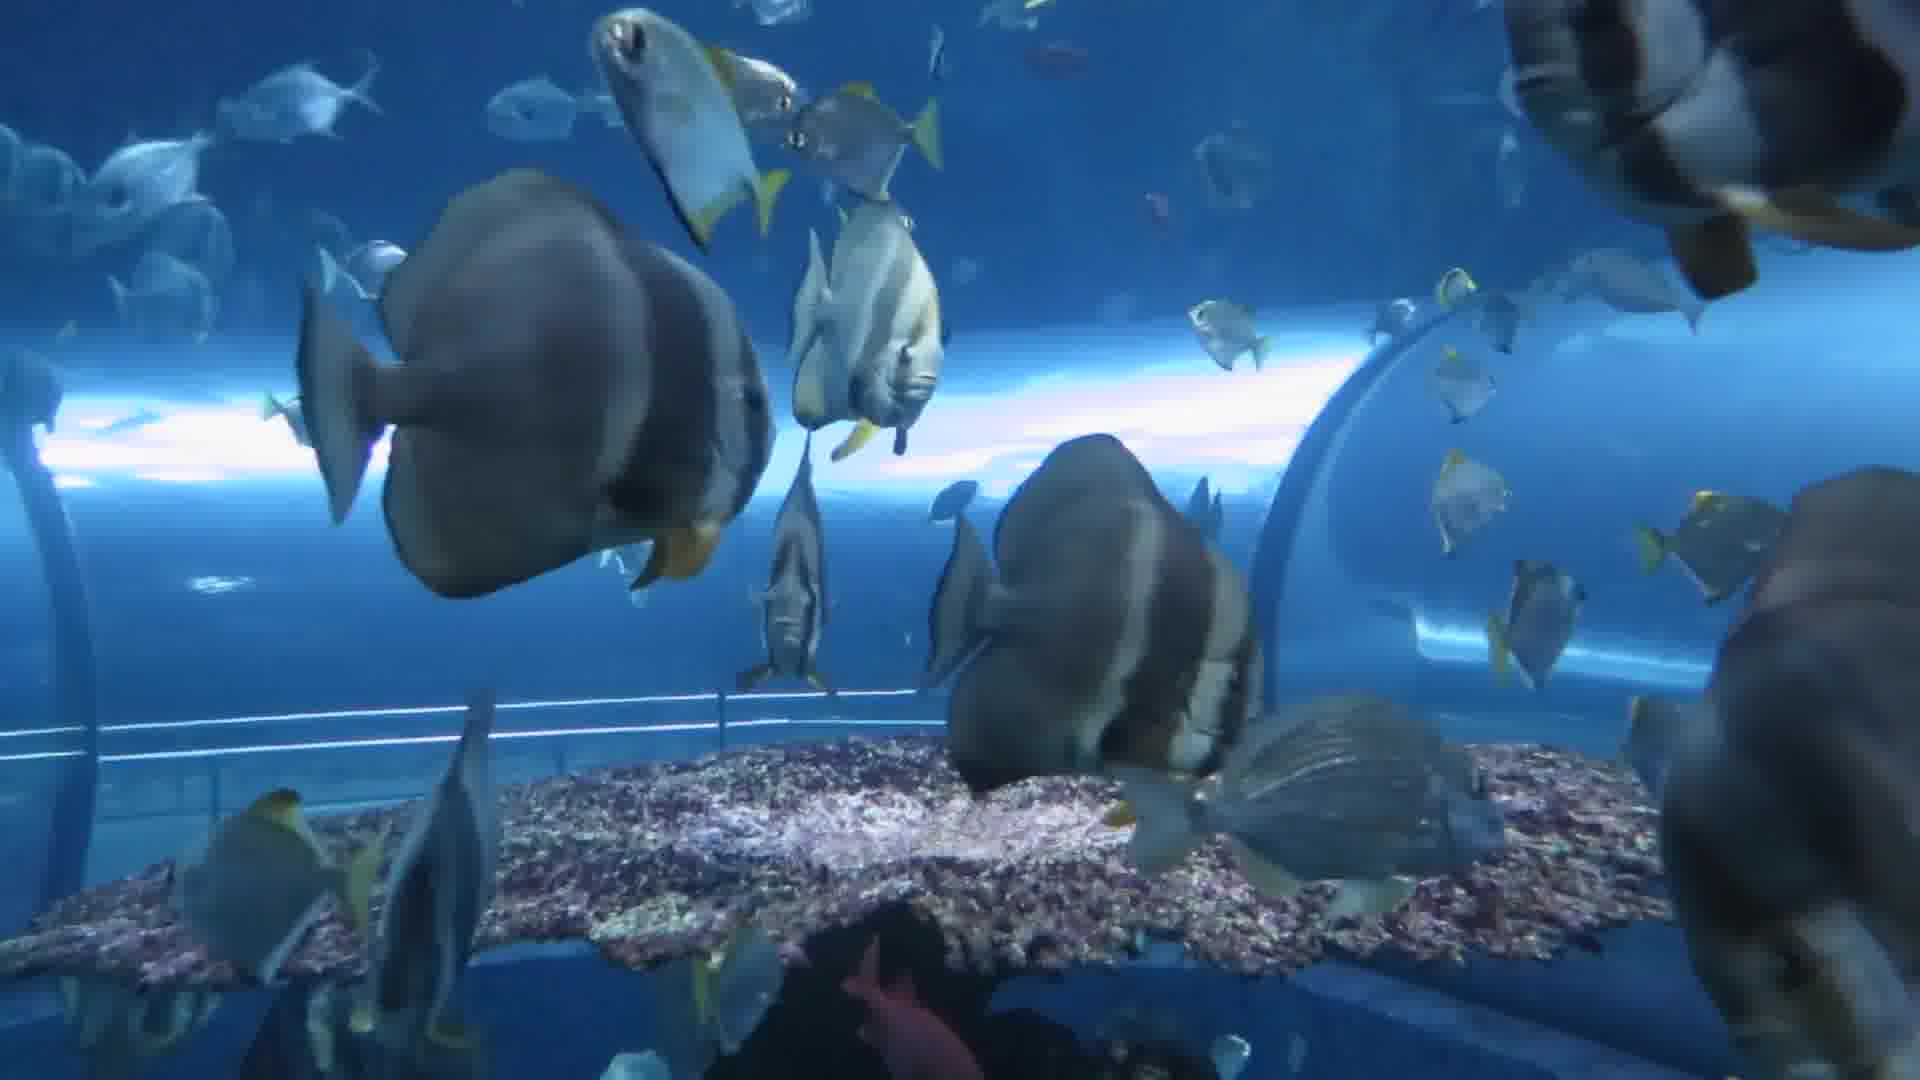Platax teira: (264, 189, 777, 650), (909, 433, 1296, 825), (744, 190, 1087, 444)
